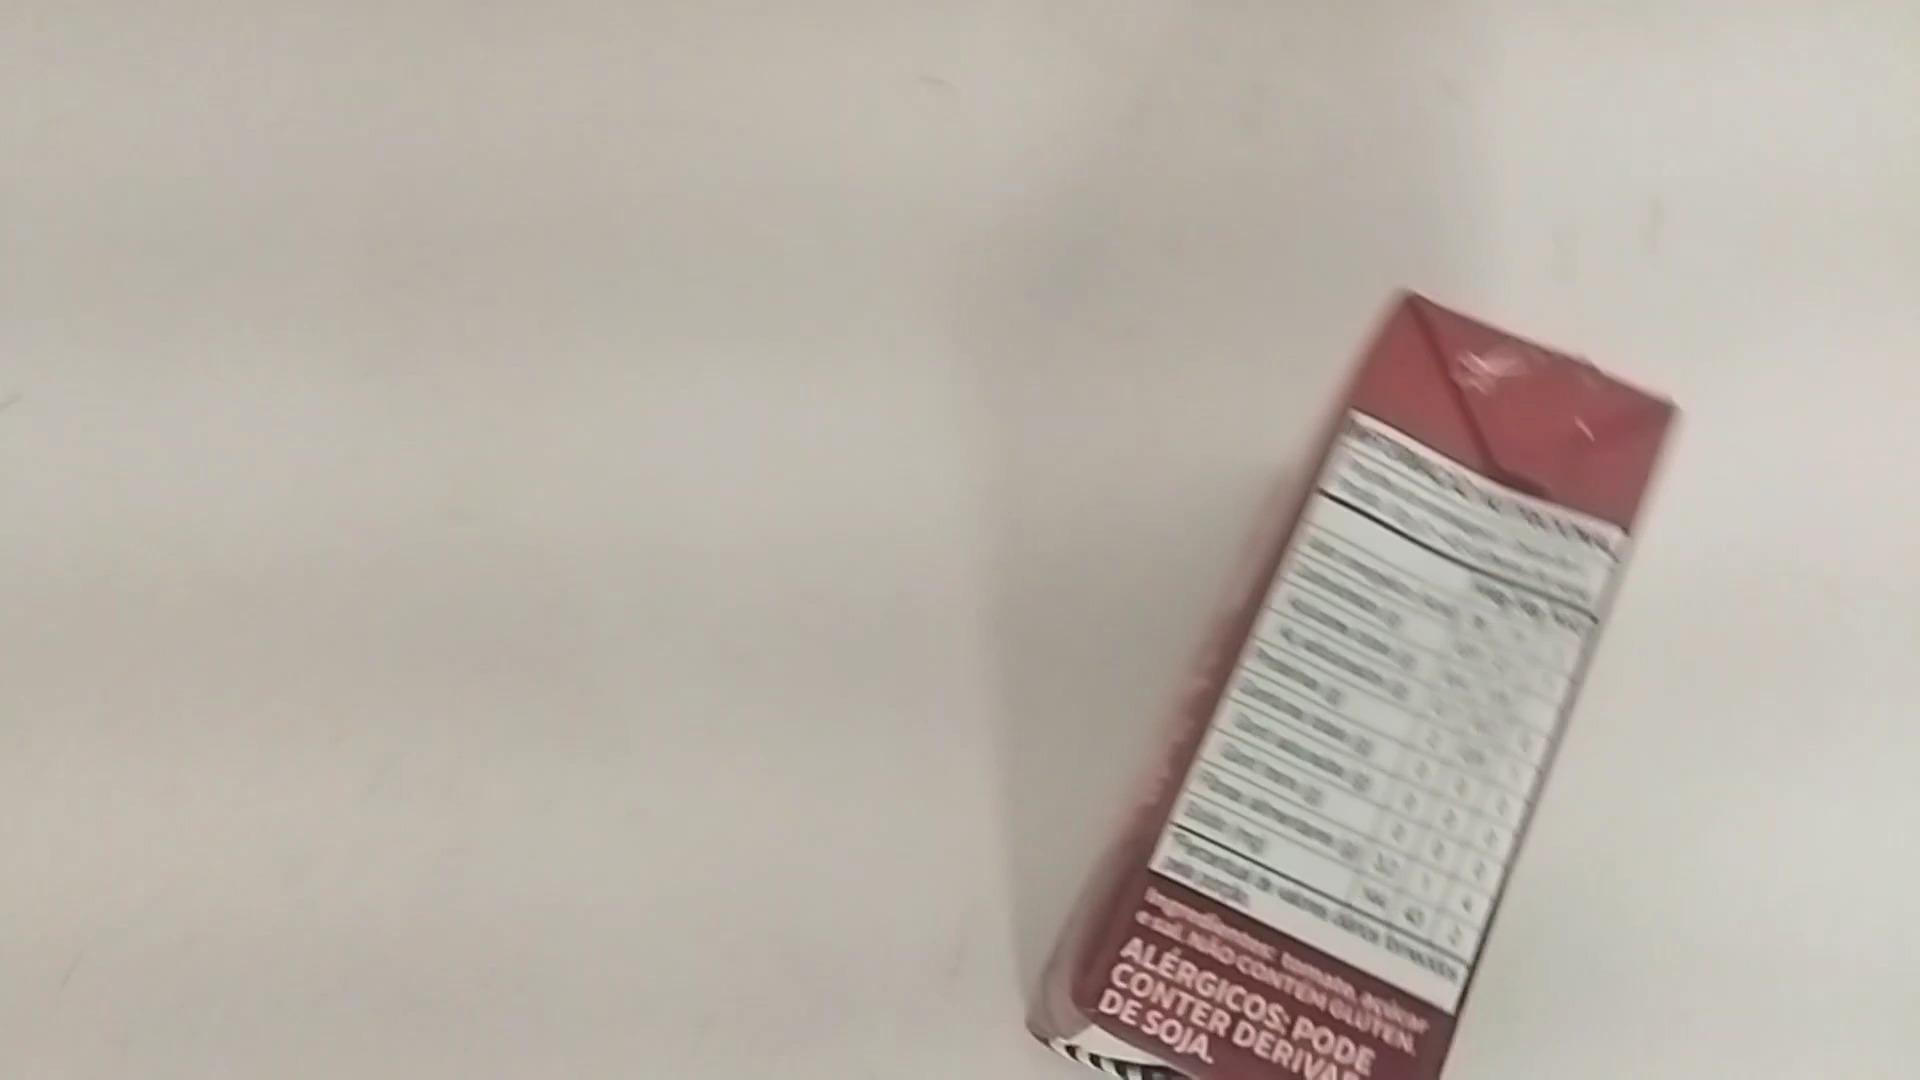tomate: (1054, 287, 1677, 1080)
